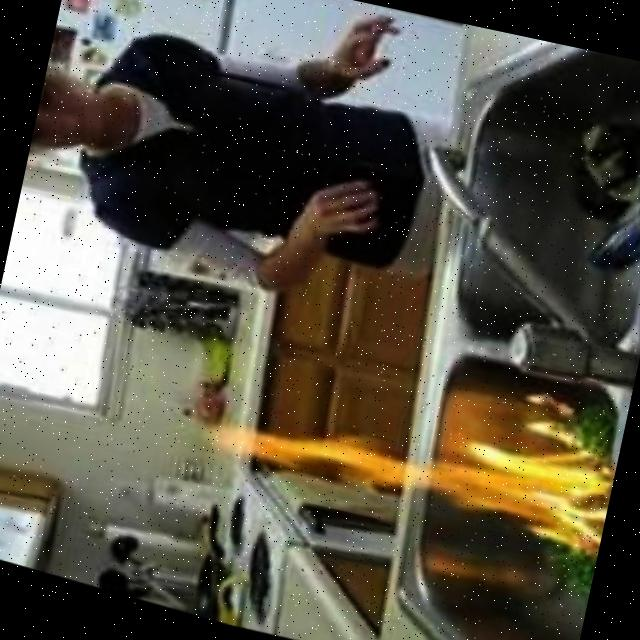fire: (186, 355, 622, 580), (510, 385, 606, 458)
